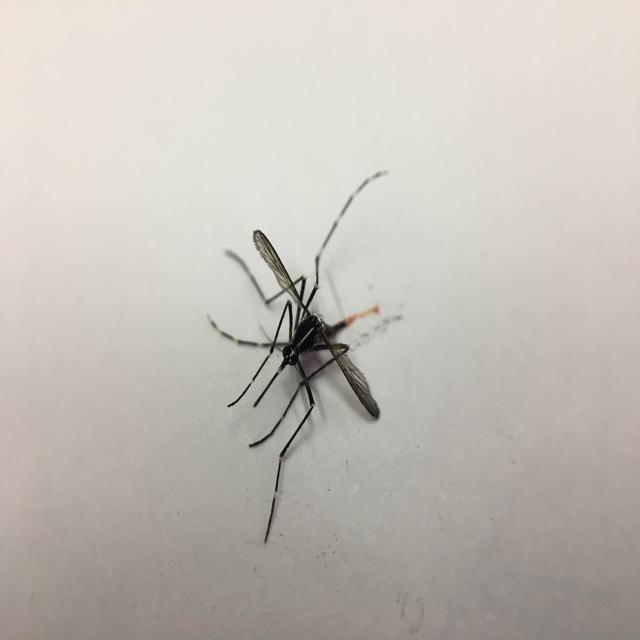albopictus: (199, 169, 400, 550)
